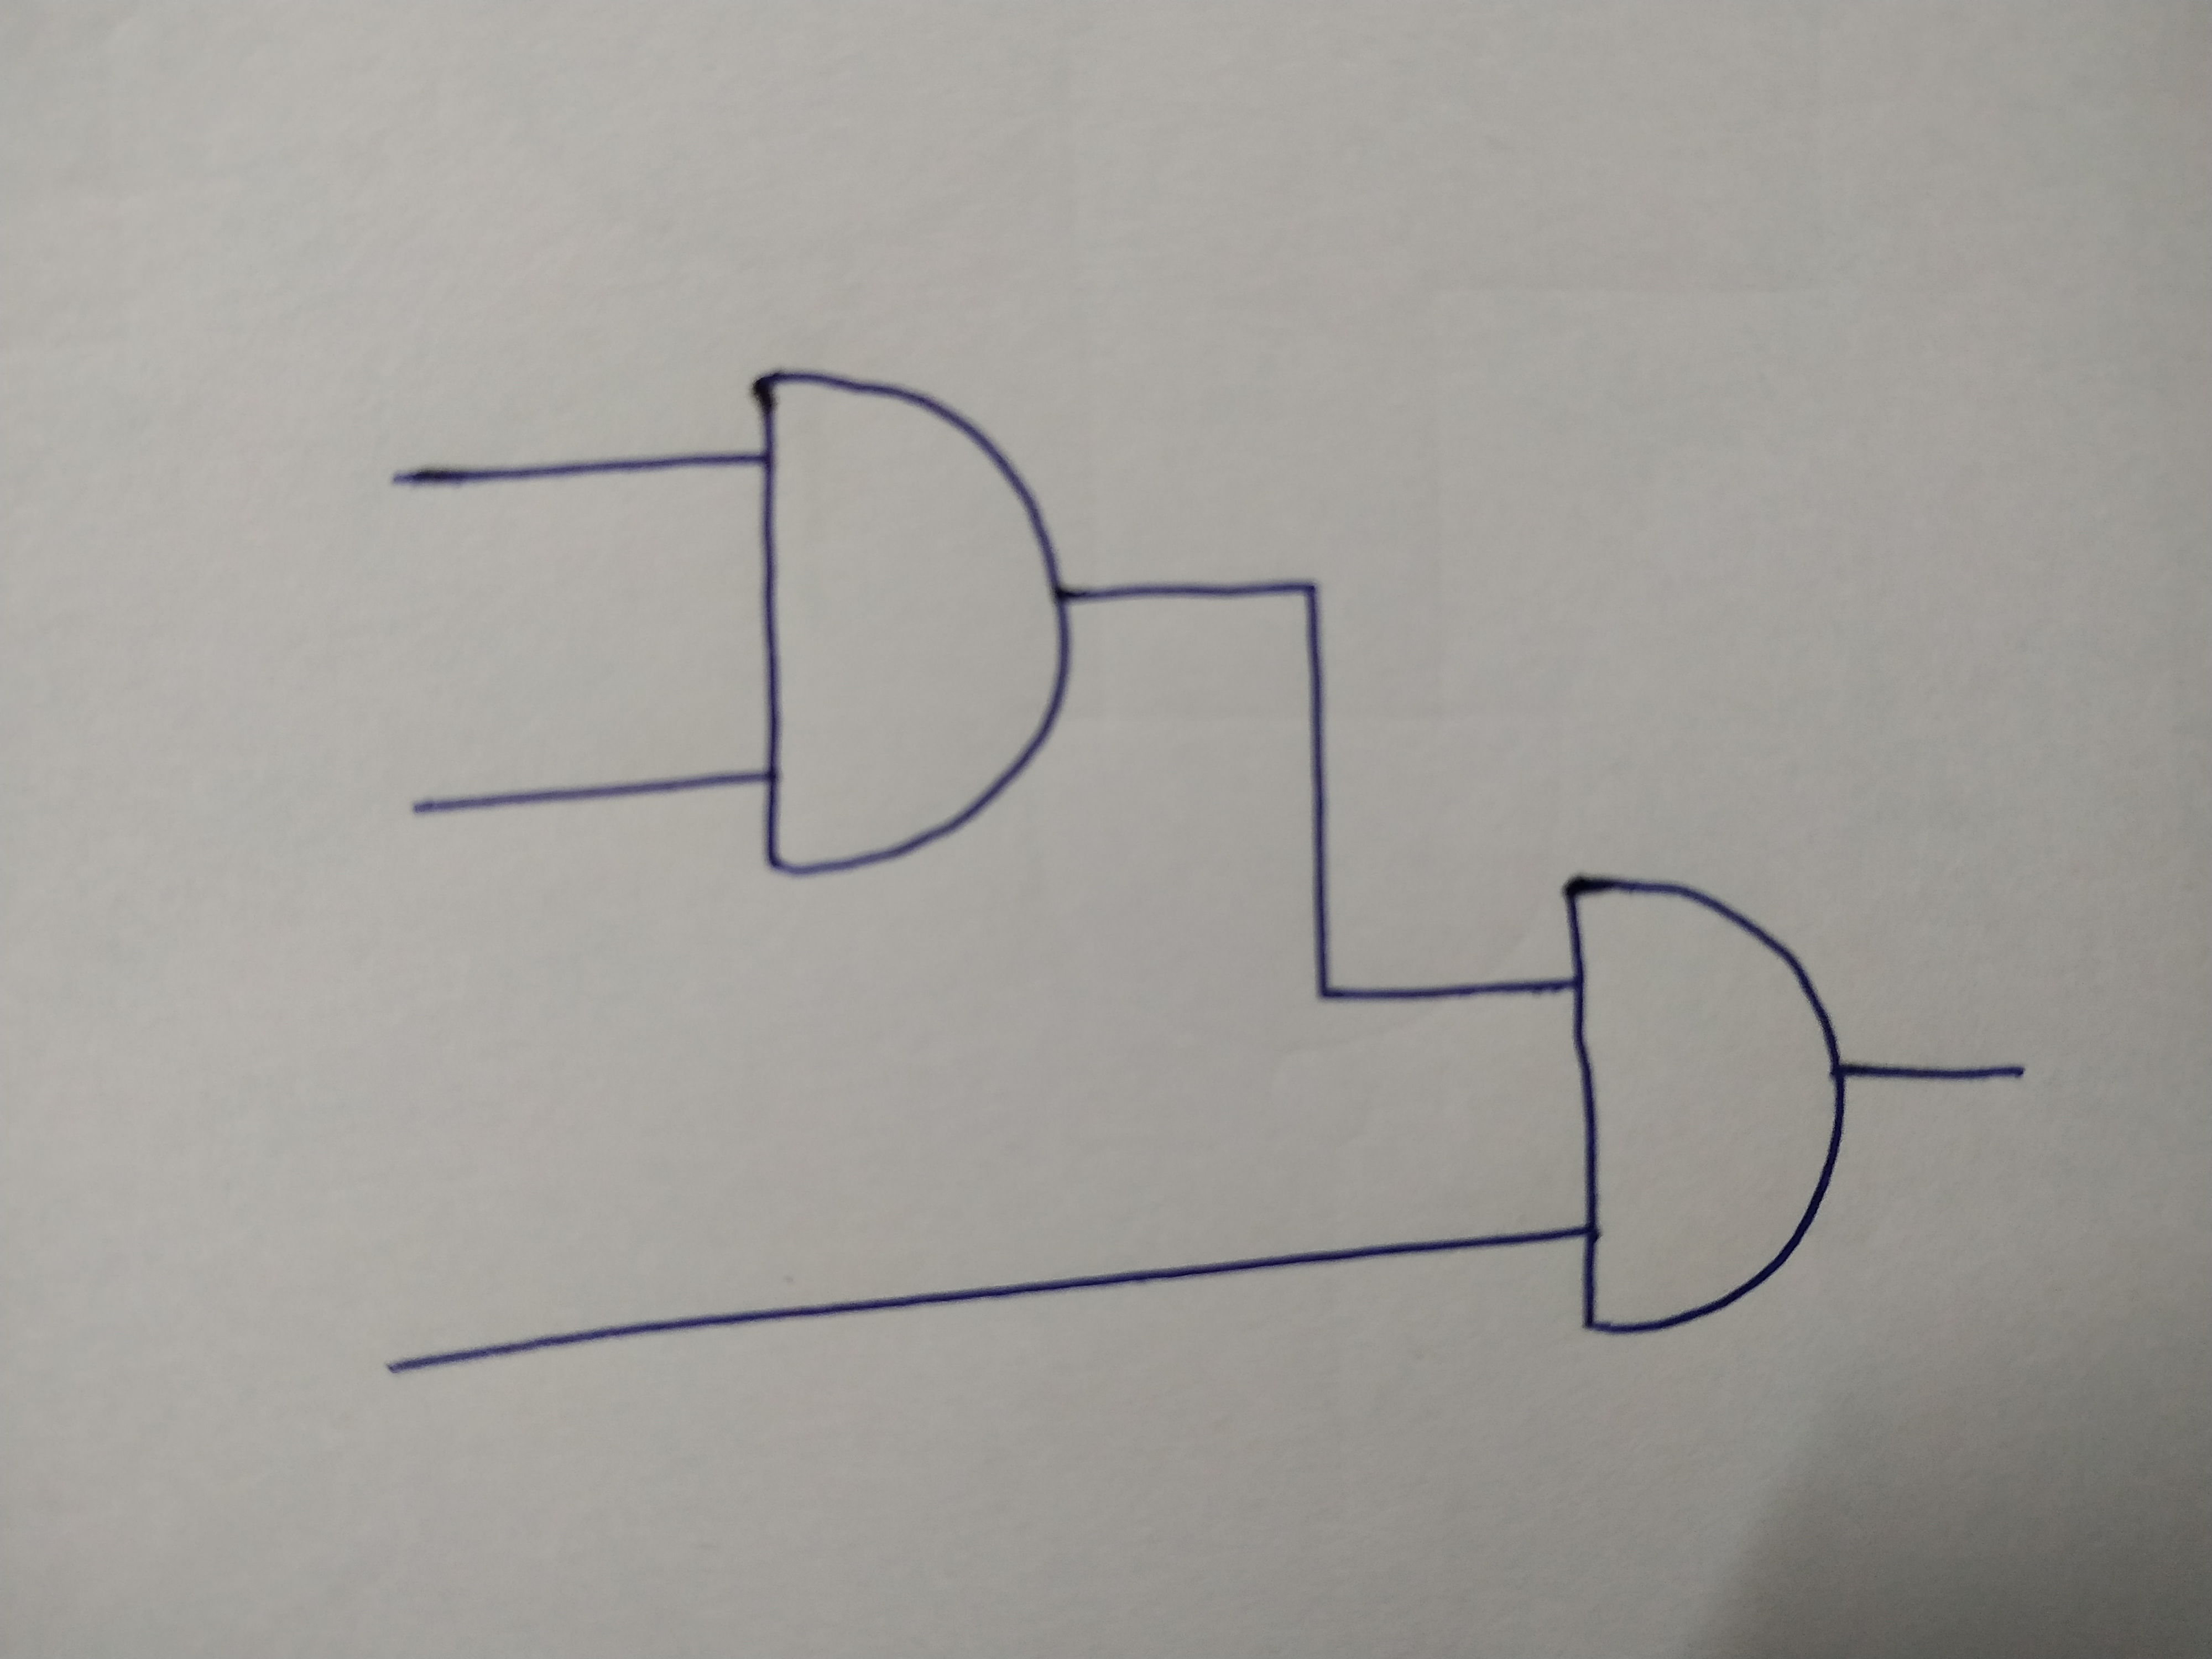and: (747, 366, 1075, 880), (1561, 871, 1848, 1337)
